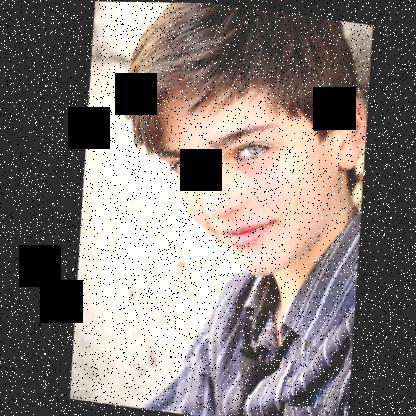Male: (133, 68, 374, 291)
